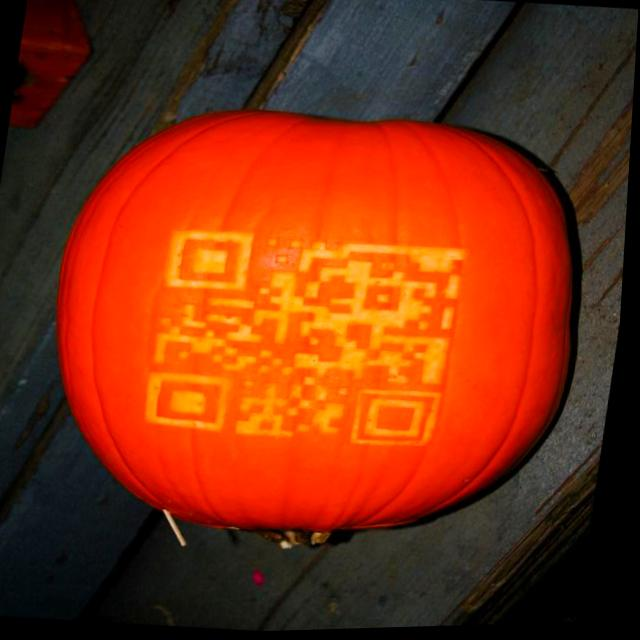qrcode: (148, 223, 471, 457)
